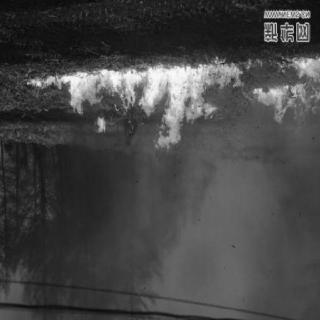Fire: (26, 58, 318, 140)
